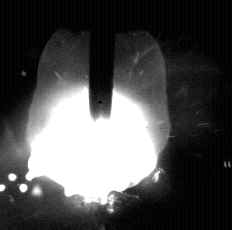arame: (90, 0, 114, 122)
poca: (26, 0, 171, 230)
